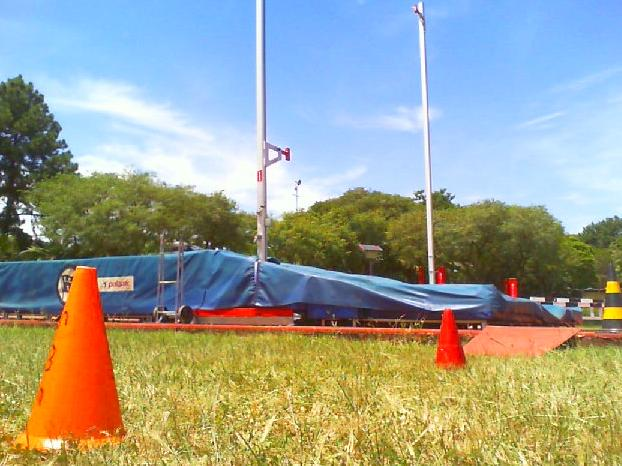0 cone: (15, 267, 130, 451), (433, 310, 465, 369), (595, 264, 622, 333)
